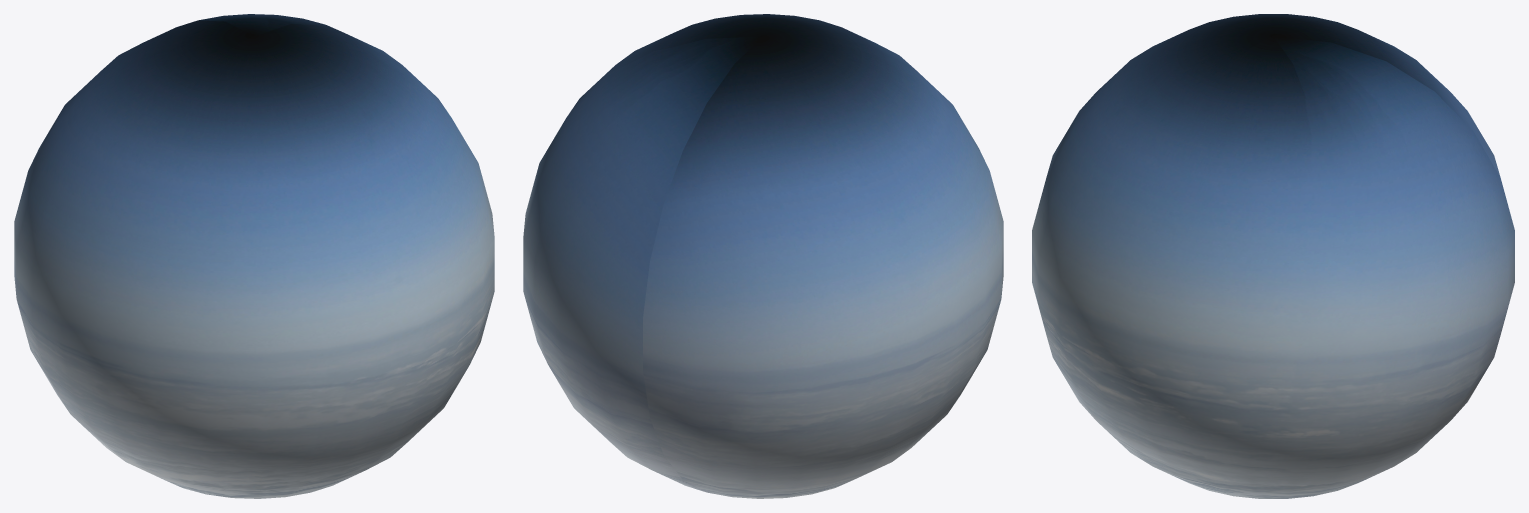
File: Background.FBX
The picture shows the model from 3 angles, left to right: view 1: azimuth 30°, elevation 25°; view 2: azimuth 150°, elevation 25°; view 3: azimuth 270°, elevation 25°; orthographic projection.
Parts seen in each view (by area): view 1: Sphere001; view 2: Sphere001; view 3: Sphere001.
Boxes of the visible parts, box(x1,y1,x2,y2) form: Sphere001: box(14, 14, 494, 498); Sphere001: box(523, 14, 1003, 498); Sphere001: box(1032, 14, 1514, 498).
Bounding box in the file's own units: 985 × 993 × 1000.
